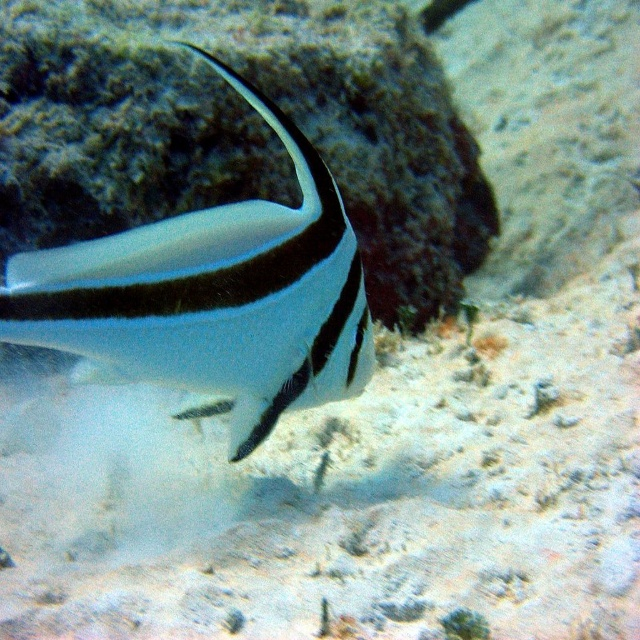Fish: (0, 43, 374, 468)
